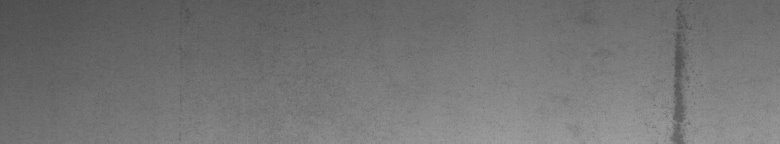hd: (664, 8, 692, 136)
